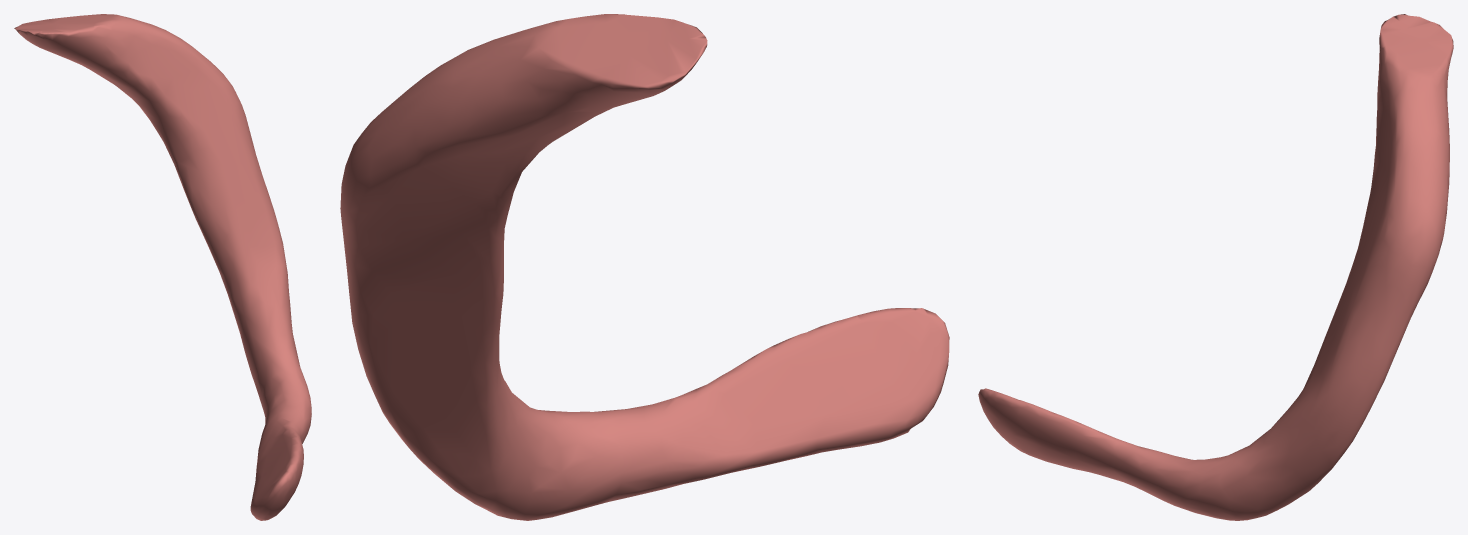
File: fma46710_mm1254.glb
The picture shows the model from 3 angles, left to right: view 1: azimuth 30°, elevation 25°; view 2: azimuth 150°, elevation 25°; view 3: azimuth 270°, elevation 25°; orthographic projection. The views are drawn at different scales.
Parts seen in each view (by area): view 1: FMA46710_MM1254; view 2: FMA46710_MM1254; view 3: FMA46710_MM1254.
Boxes of the visible parts, x1,y1,x2,y2 form: FMA46710_MM1254: [14, 14, 311, 520]; FMA46710_MM1254: [340, 14, 949, 520]; FMA46710_MM1254: [978, 14, 1453, 520].
Bounding box in the file's own units: 0.0195 × 0.0315 × 0.0327.
